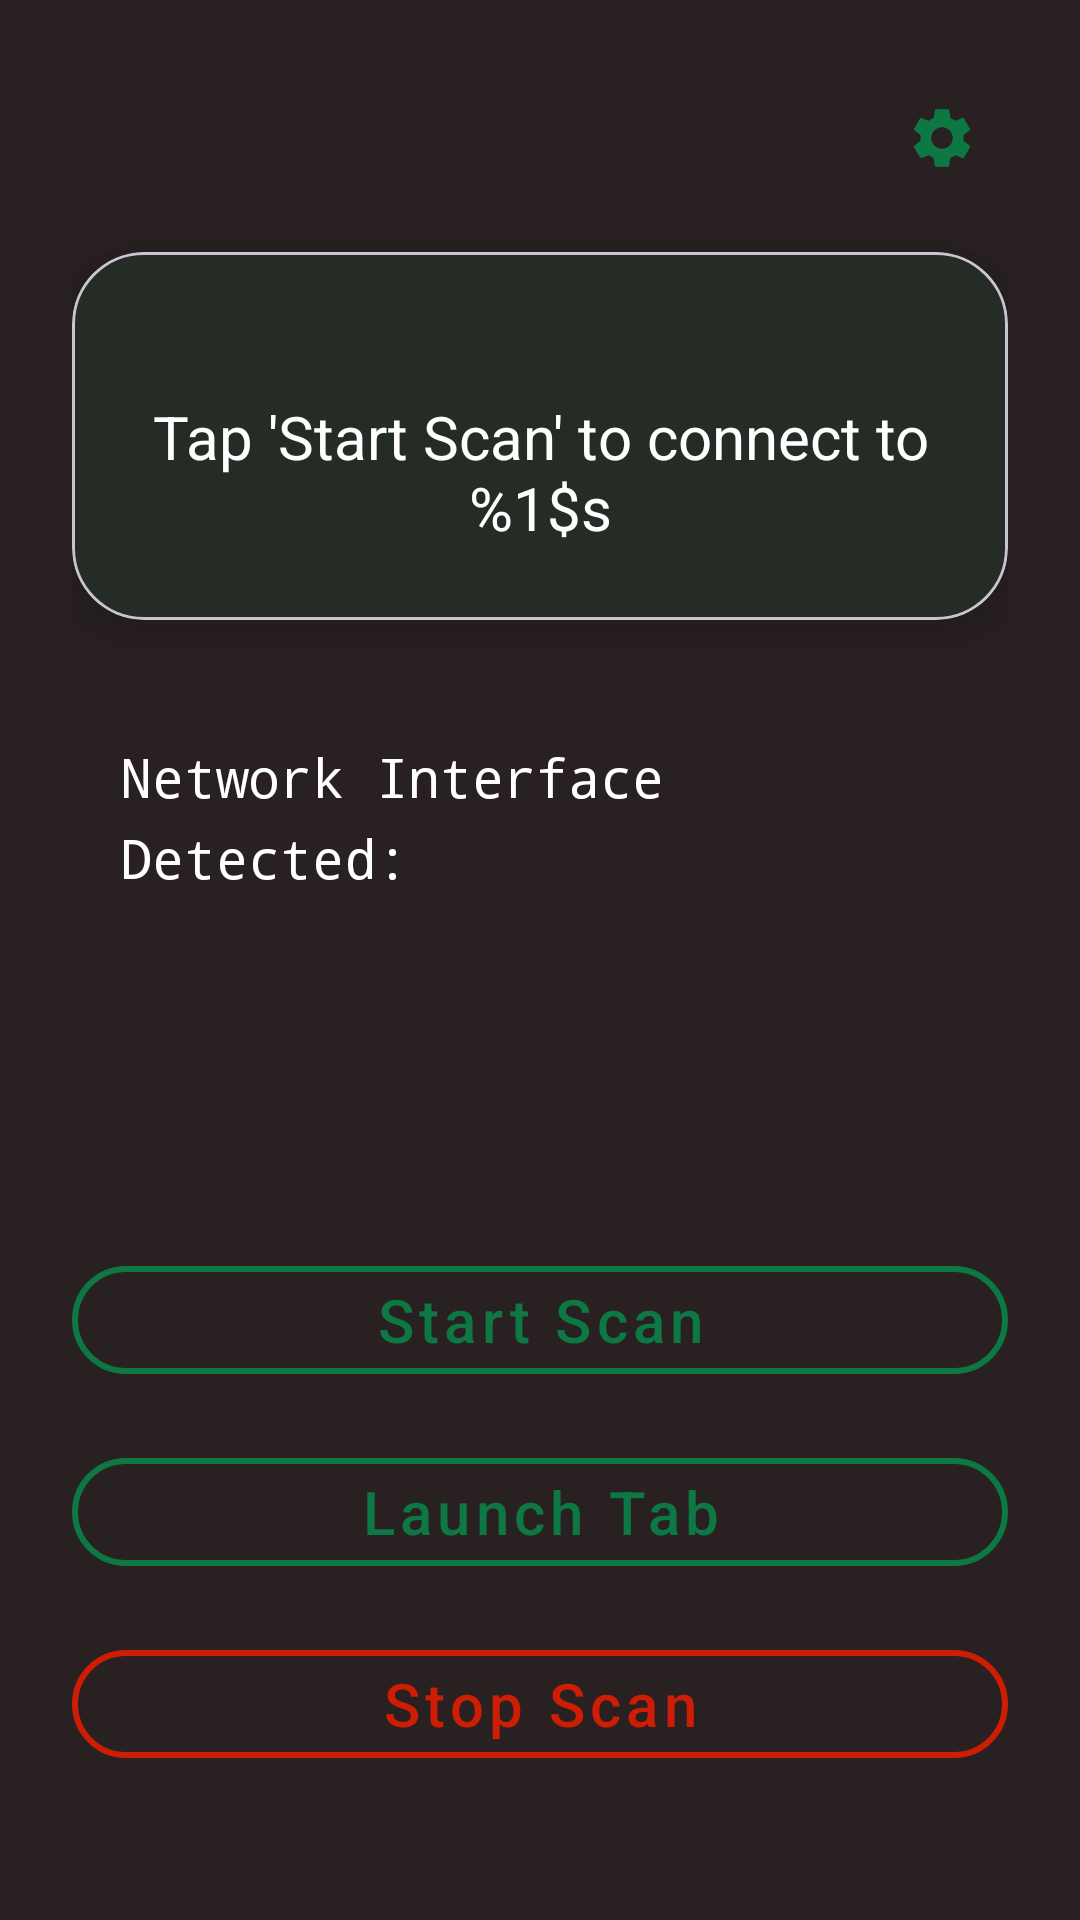

Where icons sit on this 1080*1920 app screen, as region(x1, y1, x2, y2):
Settings: region(914, 109, 970, 167)
